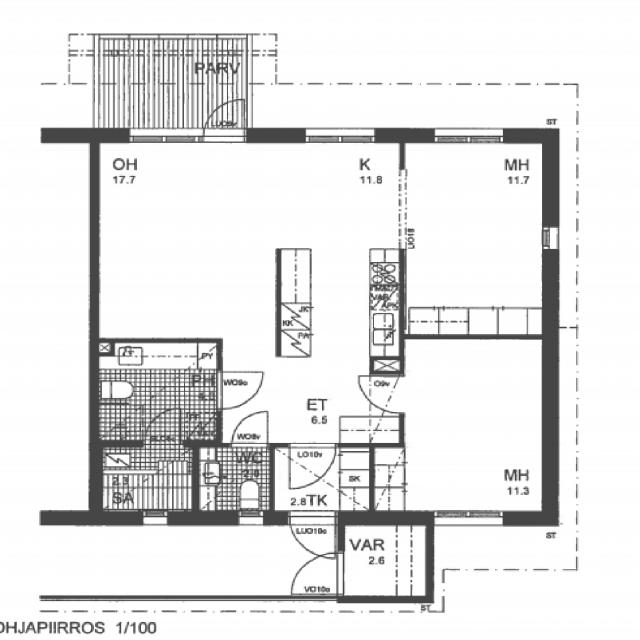door: (290, 511, 334, 565), (289, 442, 336, 490), (292, 553, 344, 594), (204, 91, 244, 143), (217, 372, 264, 409), (360, 376, 405, 412), (144, 408, 180, 447), (232, 409, 268, 447)
